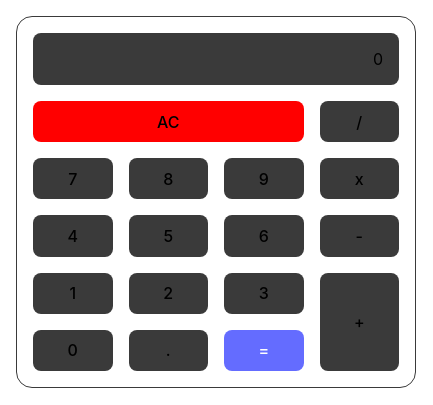
Calculadora - e2e (espelho de utils.test.ts) › isNumber (entrada de numeros) › "3.14" e aceito
Check: the text "0" is shown, box [373,49,383,69]
Click the button "3" at (264, 294), box [224,273,304,314]
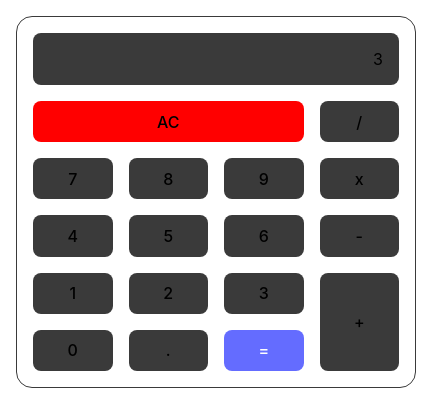
Click the button "." at (169, 351), box [129,330,209,371]
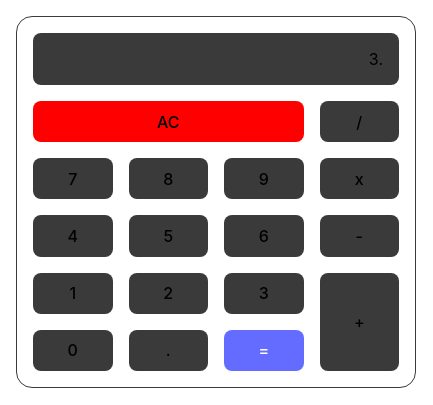
Click the button "1" at (73, 294), box [33,273,113,314]
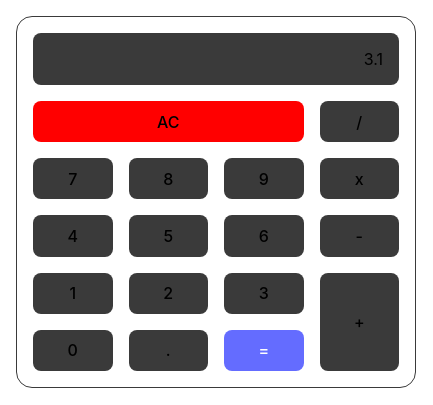
Click the button "4" at (73, 236), box [33,215,113,256]
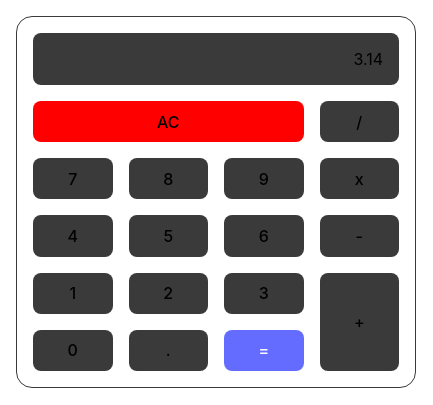
Check: the text with test id "display" reads "3.14", box [353,49,383,69]
